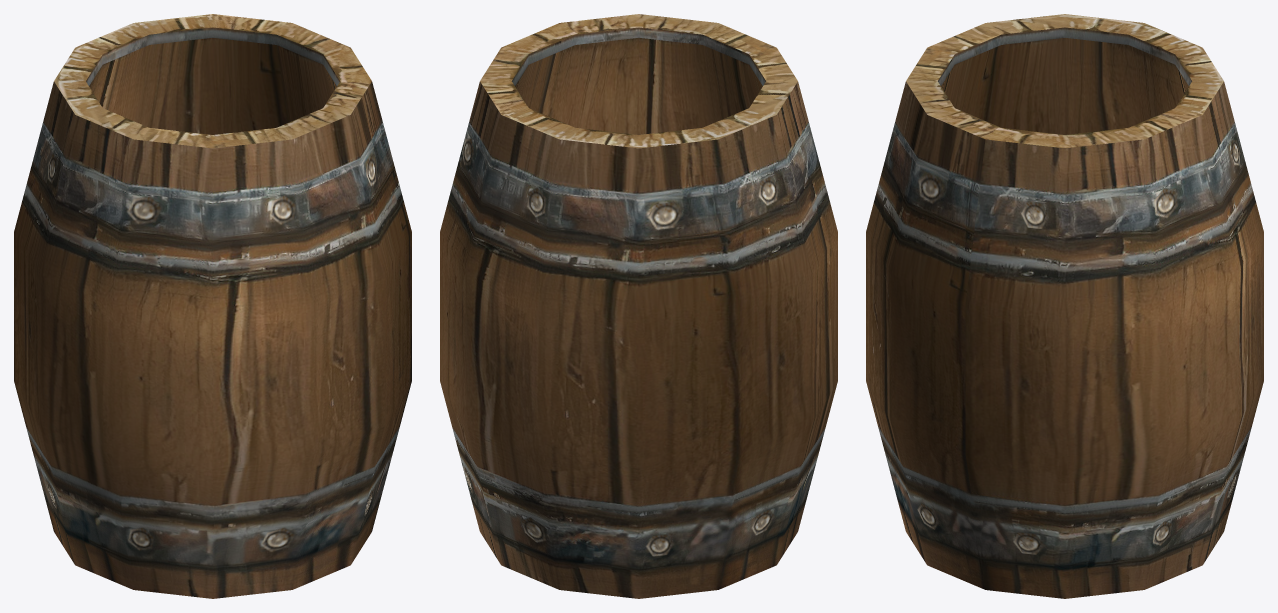
Rendered from barrel-02.fbx.
The picture shows the model from 3 angles, left to right: view 1: azimuth 30°, elevation 25°; view 2: azimuth 150°, elevation 25°; view 3: azimuth 270°, elevation 25°; orthographic projection.
Visible parts, largest first — view 1: Cylinder.078; view 2: Cylinder.078; view 3: Cylinder.078.
Boxes of the visible parts, left/top/right/bottom form: Cylinder.078: left=14, top=14, right=411, bottom=598; Cylinder.078: left=440, top=14, right=837, bottom=598; Cylinder.078: left=866, top=14, right=1263, bottom=598.
Size of the model in its own units: 0.64 by 0.8 by 0.64.
